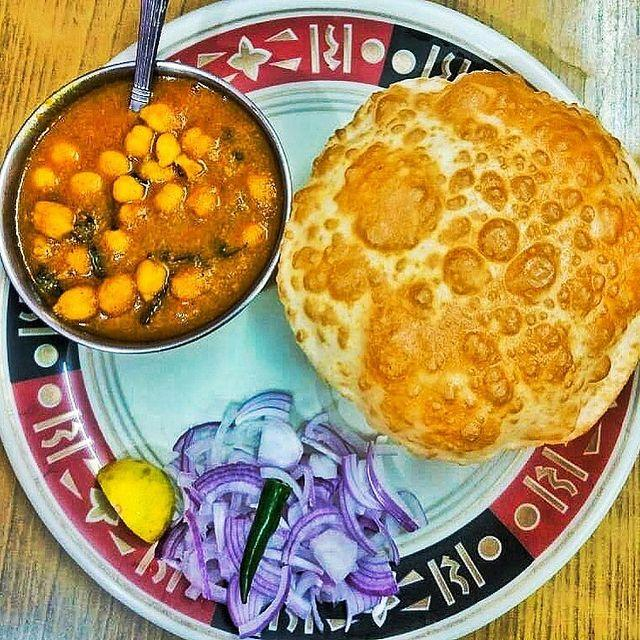Chole: (14, 111, 238, 347)
